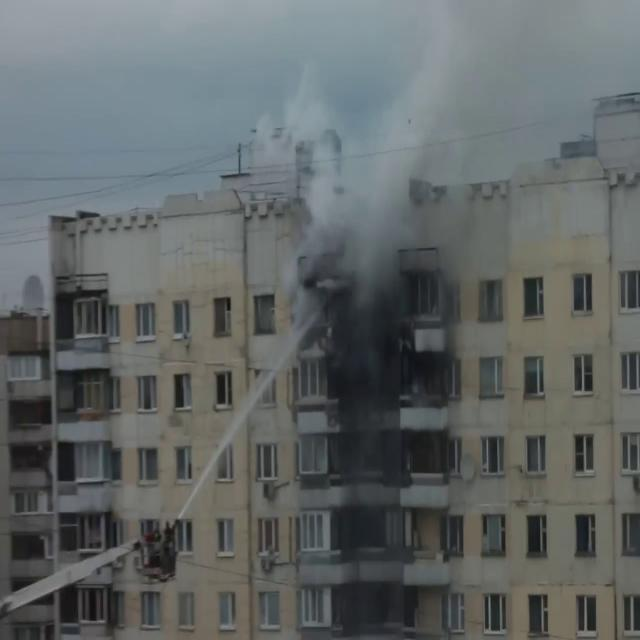Smoke: (274, 40, 492, 425)
